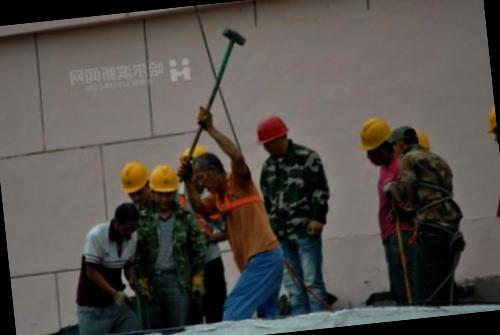no_helmet: (188, 151, 226, 197), (106, 200, 141, 240), (388, 124, 423, 161)
